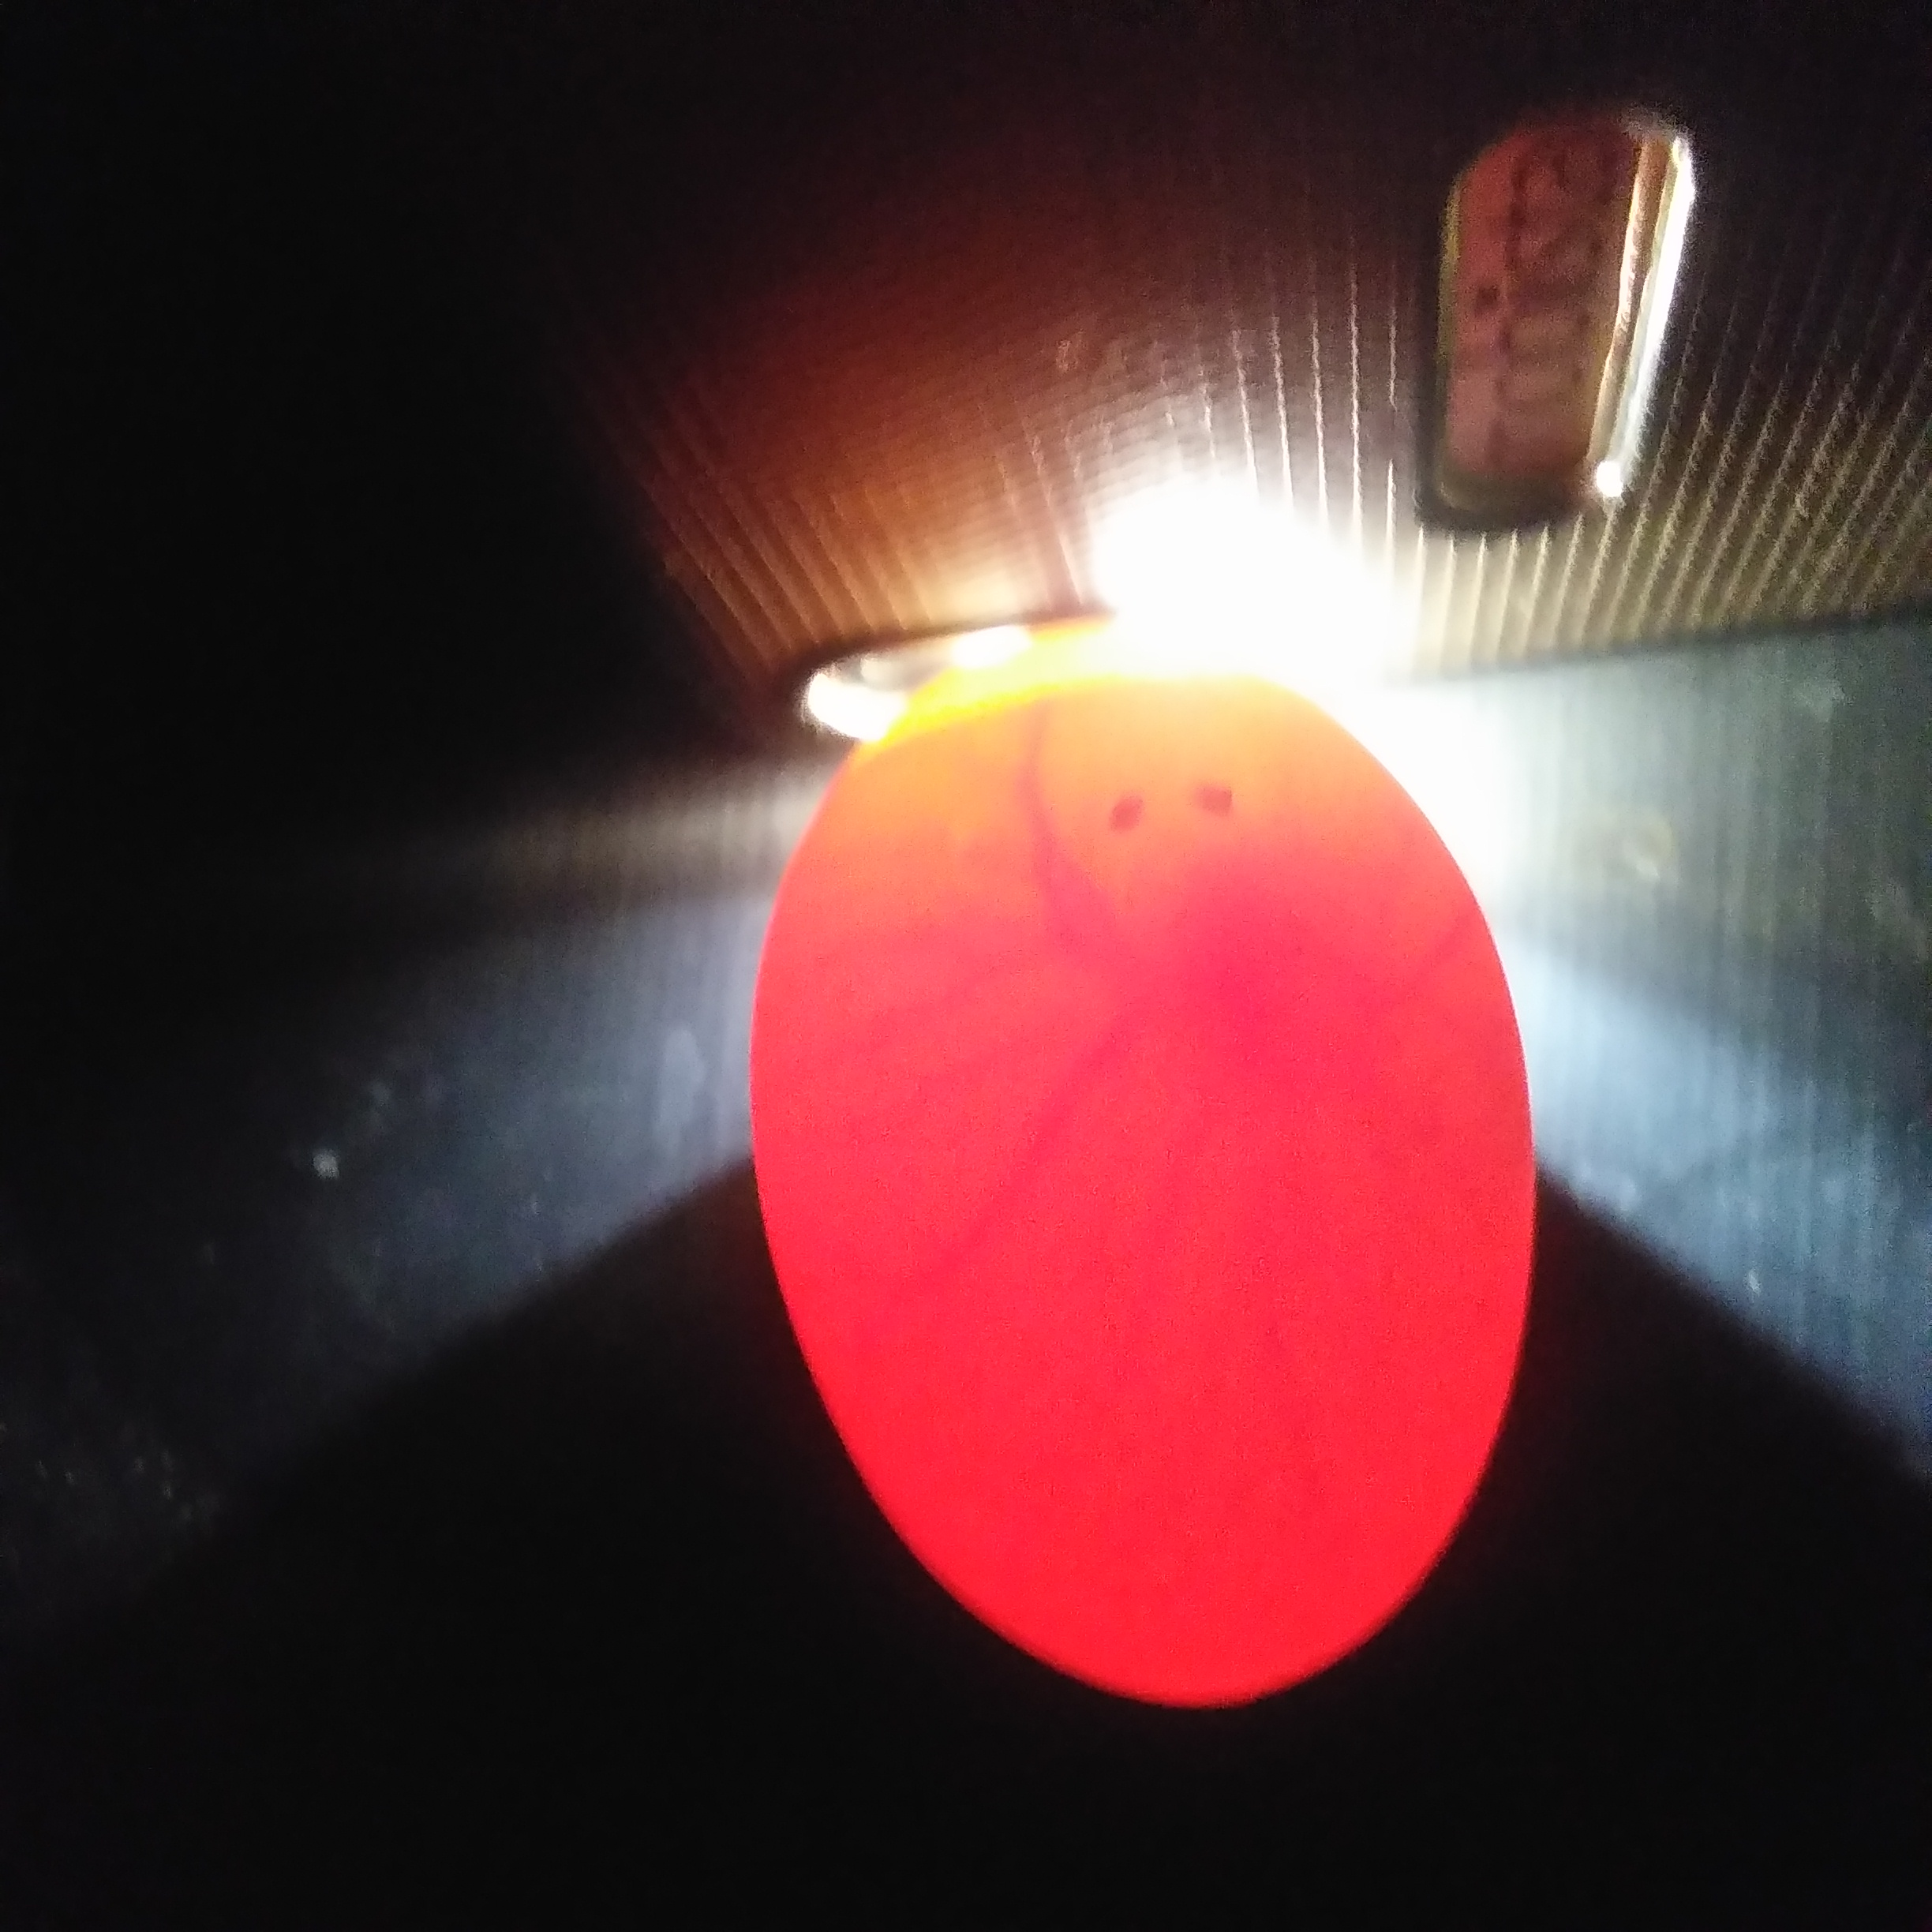bloodcell: (846, 996, 1355, 1396), (885, 740, 1099, 943)
